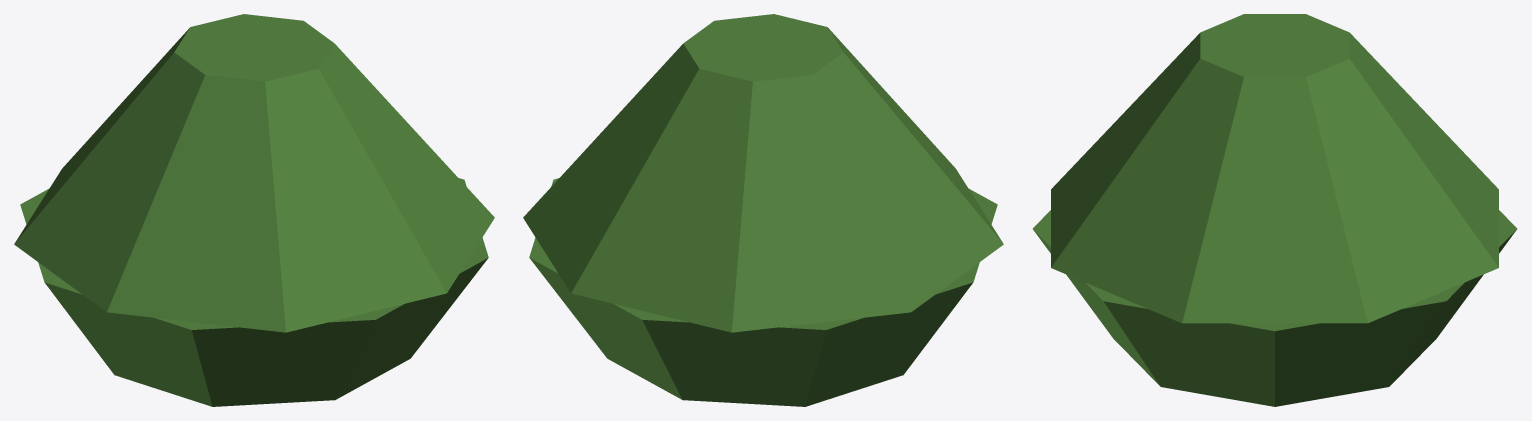
The model's file is bush.glb.
The picture shows the model from 3 angles, left to right: view 1: azimuth 30°, elevation 25°; view 2: azimuth 150°, elevation 25°; view 3: azimuth 270°, elevation 25°; orthographic projection.
Visible parts, largest first — view 1: bush; view 2: bush; view 3: bush.
Boxes of the visible parts, x1,y1,x2,y2 form: bush: [14, 14, 494, 406]; bush: [523, 14, 1003, 406]; bush: [1032, 14, 1517, 406].
Bounding box in the file's own units: 1.2 × 0.8 × 1.2.
